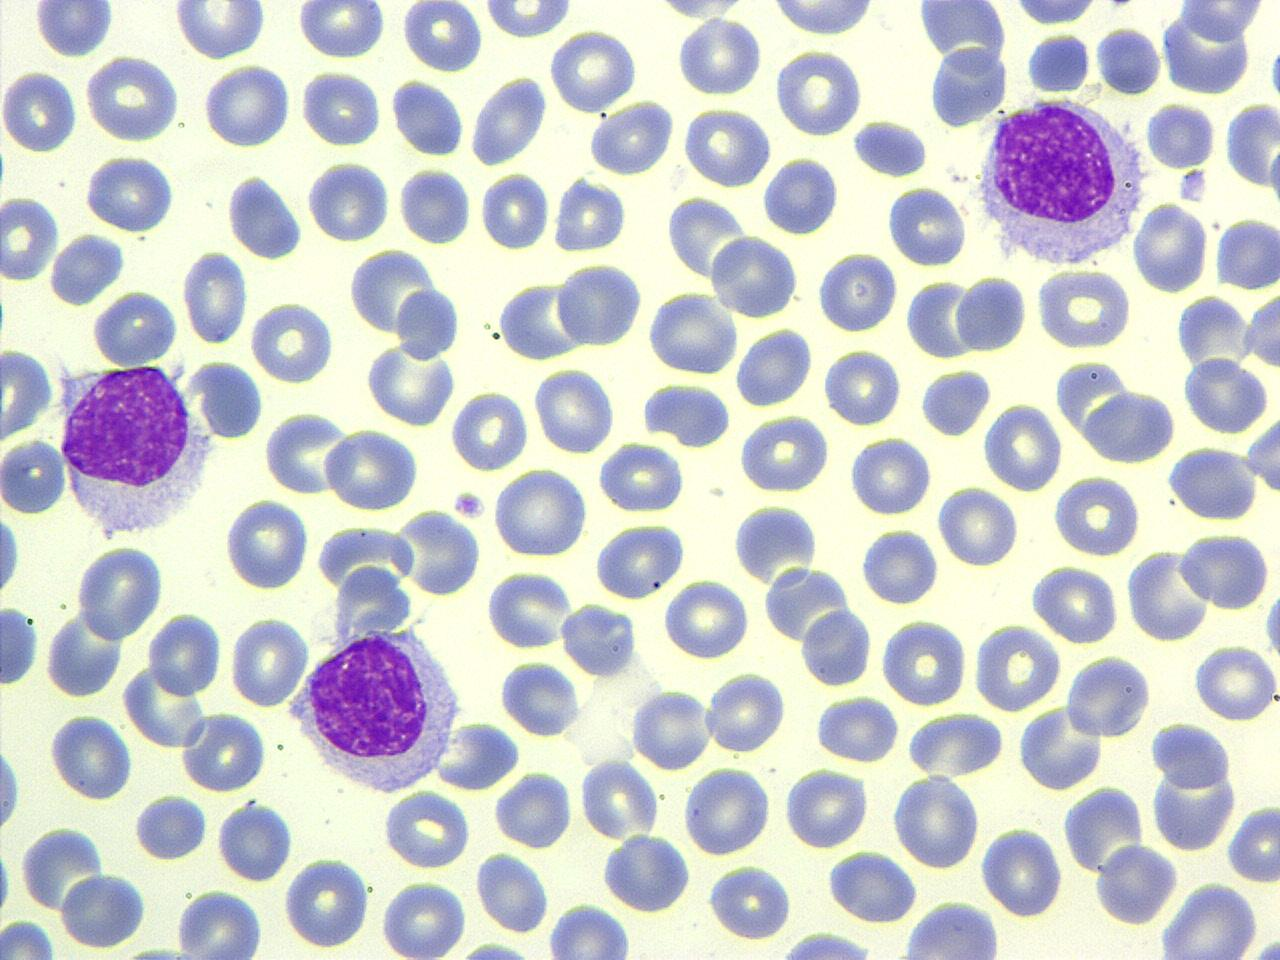Platelets: (849, 118, 928, 179), (0, 504, 23, 604), (0, 739, 22, 837), (458, 939, 532, 960), (122, 941, 188, 960), (0, 842, 15, 920), (450, 488, 485, 520), (1267, 44, 1280, 101), (1253, 940, 1280, 960)
RBC: (1148, 727, 1238, 856), (74, 543, 165, 642), (492, 466, 589, 560), (1160, 2, 1252, 100), (85, 52, 179, 145), (891, 771, 981, 869), (322, 425, 420, 513), (1035, 265, 1135, 353), (281, 854, 372, 950), (222, 495, 309, 593), (681, 764, 773, 856), (772, 46, 862, 139), (1125, 548, 1211, 642), (972, 621, 1061, 712), (553, 260, 644, 350), (548, 26, 640, 115), (1158, 880, 1262, 958), (393, 507, 483, 597), (879, 616, 969, 706), (980, 824, 1064, 919), (122, 659, 210, 750), (365, 338, 454, 427), (1015, 702, 1105, 790), (201, 63, 291, 149), (593, 518, 686, 602), (736, 412, 830, 495), (709, 232, 797, 320), (467, 73, 549, 166), (982, 399, 1064, 493), (730, 501, 824, 583), (228, 612, 308, 708), (263, 408, 350, 497), (48, 711, 134, 801), (532, 364, 616, 456), (84, 152, 177, 234), (250, 297, 337, 385), (180, 708, 269, 794), (646, 290, 736, 375), (1051, 473, 1141, 558), (681, 104, 772, 188), (1178, 528, 1270, 611), (1064, 652, 1152, 738), (1180, 354, 1272, 436), (1166, 444, 1260, 523), (1132, 198, 1208, 294), (381, 788, 470, 870), (1032, 562, 1120, 644), (885, 182, 968, 269), (484, 569, 572, 650), (378, 876, 468, 957), (703, 861, 793, 942), (924, 44, 1010, 128), (306, 157, 390, 243), (629, 685, 713, 770), (674, 15, 761, 98), (662, 578, 750, 659), (43, 609, 123, 699), (1082, 390, 1176, 466), (1093, 842, 1177, 926), (848, 434, 932, 517), (814, 249, 896, 336), (586, 100, 674, 179), (89, 289, 179, 367), (598, 439, 688, 516), (826, 847, 918, 924), (784, 765, 868, 849), (859, 522, 942, 606), (703, 670, 786, 754), (447, 388, 530, 472), (578, 756, 658, 842), (1, 66, 78, 155), (498, 657, 582, 739), (936, 484, 1018, 568), (60, 870, 146, 950), (1191, 642, 1277, 722), (904, 710, 1006, 776), (213, 800, 294, 882), (734, 324, 814, 407), (144, 610, 222, 697), (181, 247, 249, 346), (299, 68, 382, 148), (822, 344, 902, 428), (638, 379, 734, 449), (916, 0, 1010, 71), (762, 153, 840, 238), (474, 849, 551, 933), (174, 887, 263, 960), (492, 770, 572, 850), (435, 716, 520, 792), (904, 275, 978, 362), (390, 76, 466, 158), (478, 168, 550, 253), (814, 693, 899, 765), (1149, 718, 1235, 789), (46, 231, 125, 308), (402, 0, 483, 75), (800, 607, 874, 689), (397, 163, 471, 245), (954, 272, 1027, 355), (550, 176, 626, 255), (0, 344, 55, 444), (173, 1, 266, 61), (916, 364, 991, 438), (1, 434, 67, 517), (296, 0, 385, 61), (1, 192, 59, 283), (392, 286, 463, 361), (132, 792, 205, 862), (1146, 99, 1215, 171), (1093, 24, 1161, 98), (1213, 214, 1277, 292), (32, 0, 114, 59), (545, 902, 631, 958), (1226, 802, 1280, 884), (765, 0, 879, 38), (1027, 30, 1091, 95), (481, 0, 577, 40), (1173, 0, 1267, 39), (0, 604, 41, 689), (1007, 0, 1101, 30), (0, 502, 24, 608), (0, 916, 57, 959), (0, 738, 23, 838)
WBC: (972, 93, 1149, 270), (289, 620, 464, 796), (54, 361, 218, 536), (76, 544, 169, 639), (682, 764, 772, 858), (1080, 384, 1178, 468), (598, 832, 694, 915), (895, 779, 983, 869), (594, 522, 692, 602), (93, 286, 187, 368), (1178, 356, 1276, 435), (1165, 442, 1259, 522), (705, 862, 794, 944), (59, 870, 151, 950), (225, 170, 304, 262), (1020, 704, 1104, 790), (928, 42, 1010, 130), (215, 797, 294, 885), (640, 378, 734, 450), (899, 899, 1004, 960), (47, 231, 126, 308), (560, 602, 637, 680), (918, 364, 992, 440), (393, 284, 462, 362), (1025, 30, 1093, 97), (760, 927, 890, 959), (0, 603, 42, 689)
